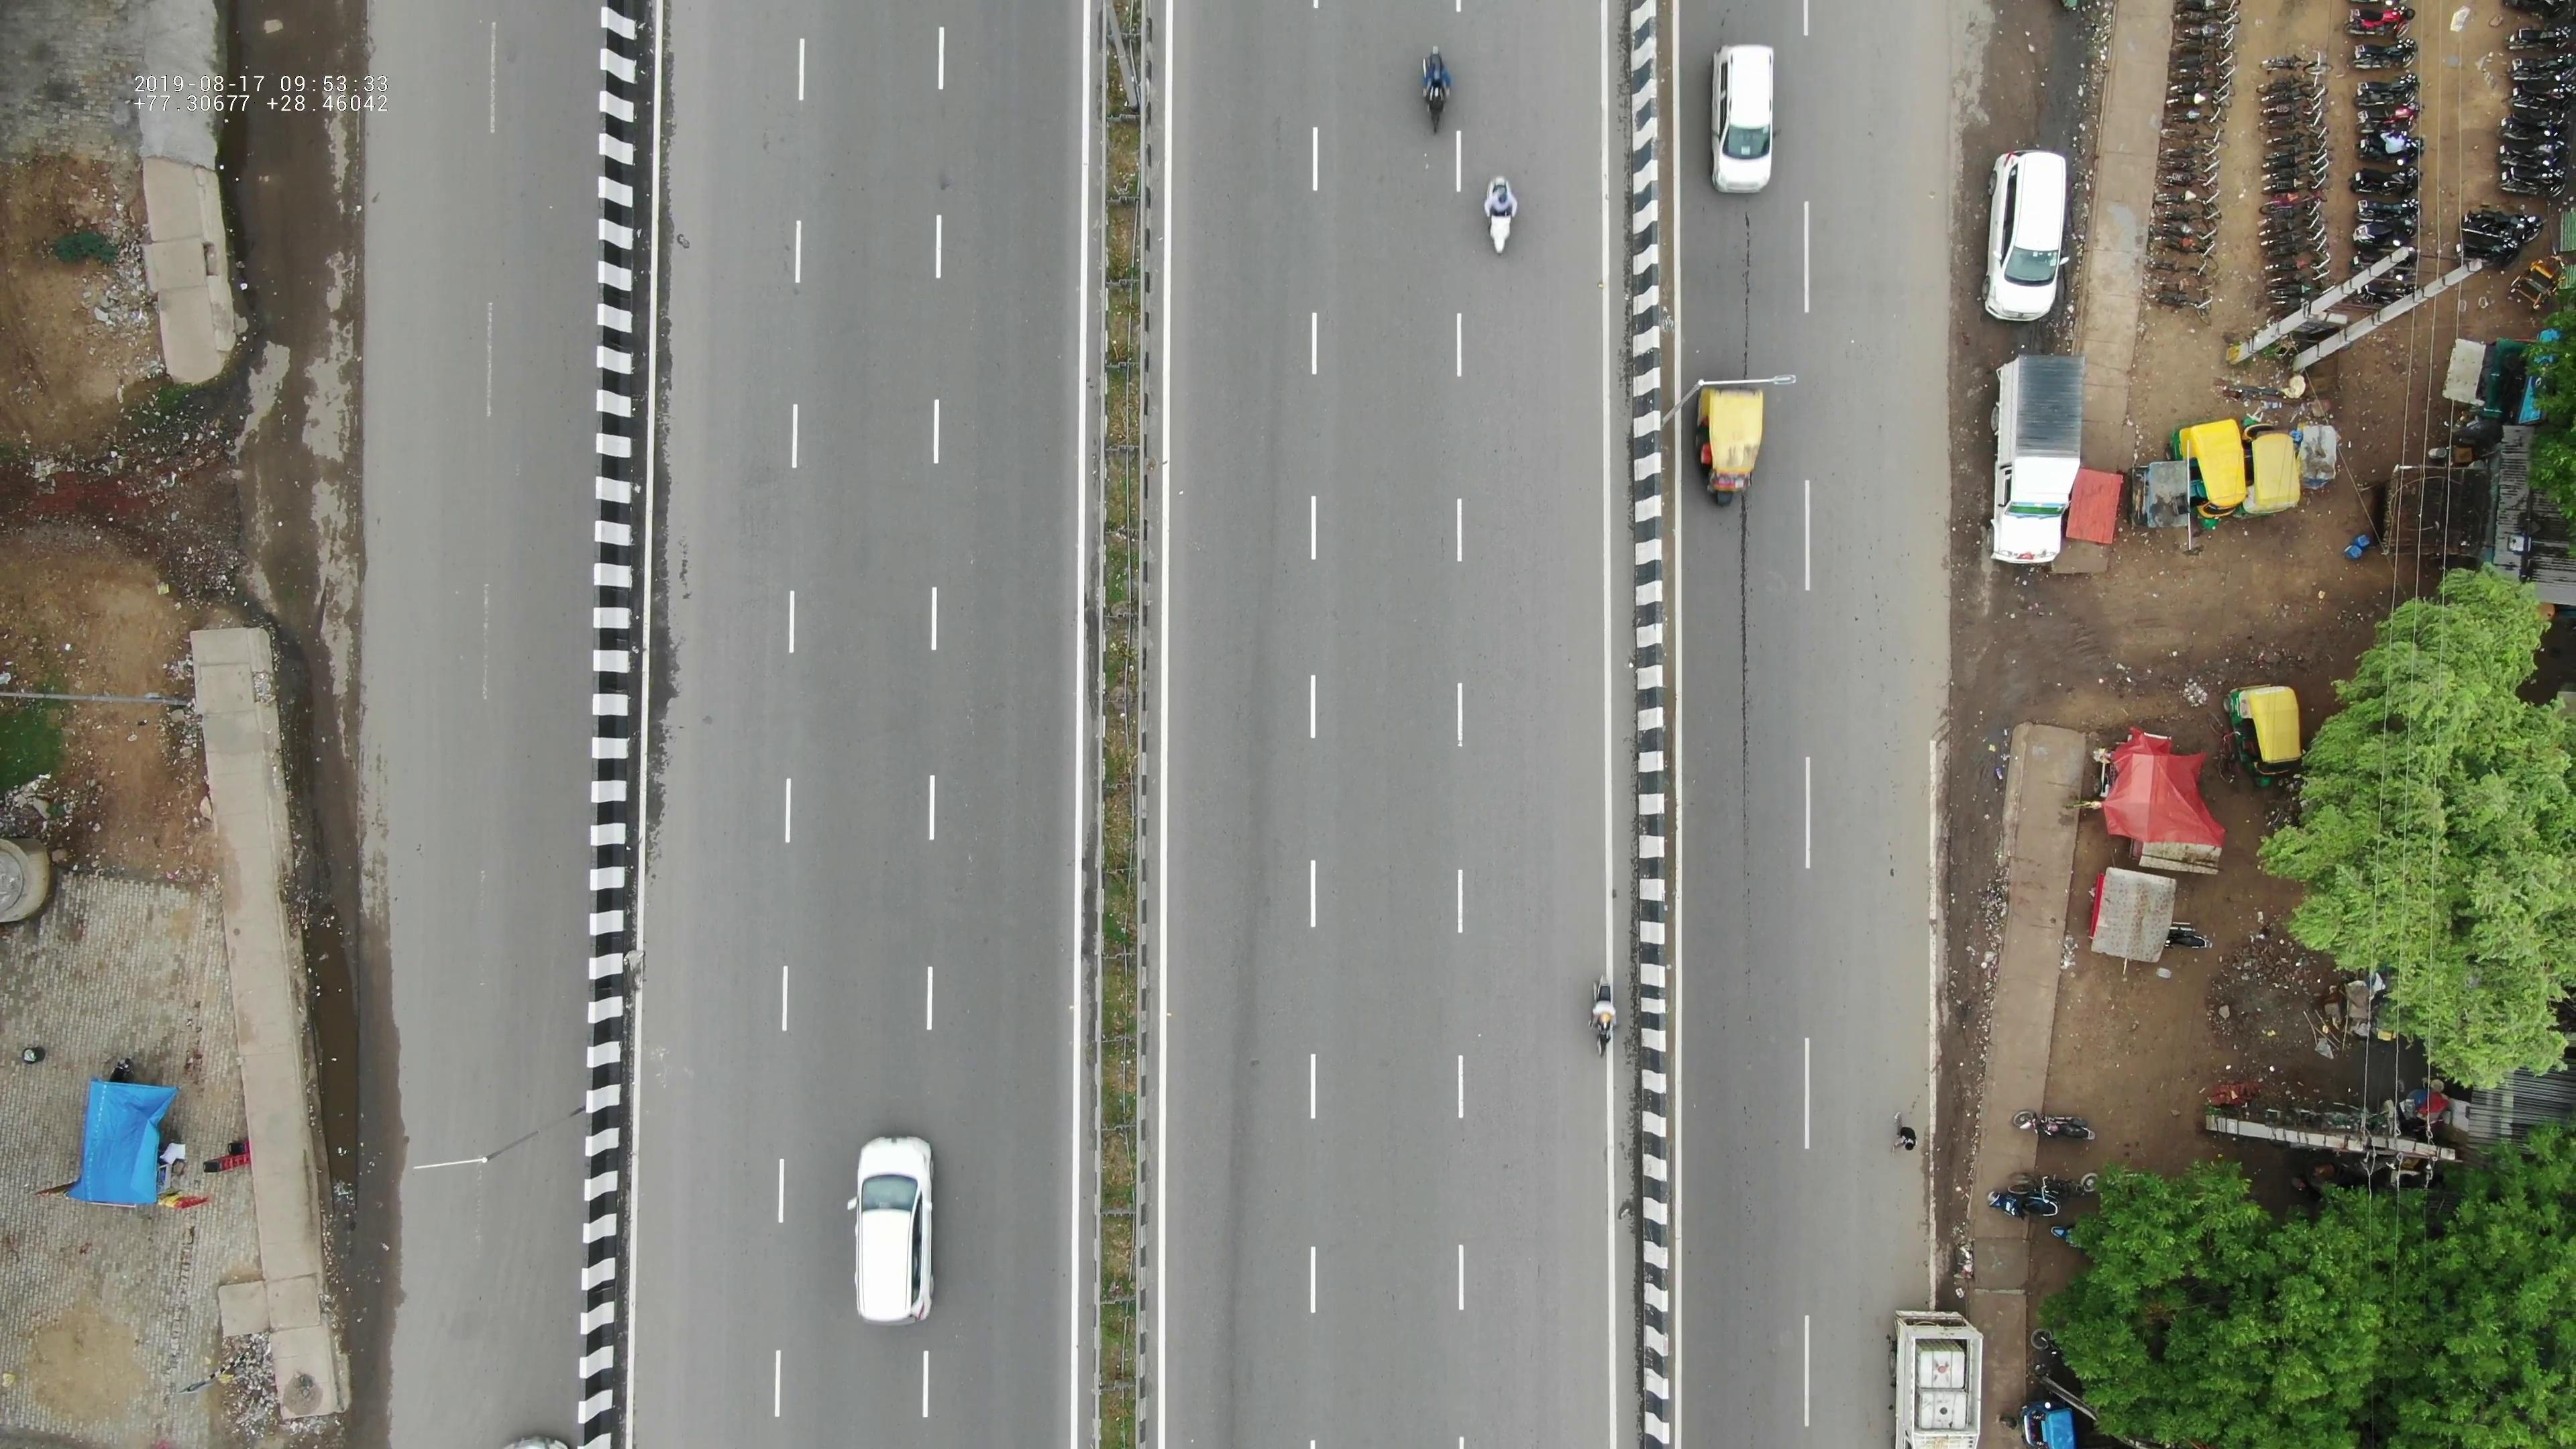Muddy_road: (1923, 1001, 1996, 1242), (1943, 748, 2003, 987), (2010, 0, 2107, 142)
Ravelling: (1727, 517, 1764, 870), (1725, 214, 1767, 372)
Waterlogging: (288, 909, 379, 1224)
